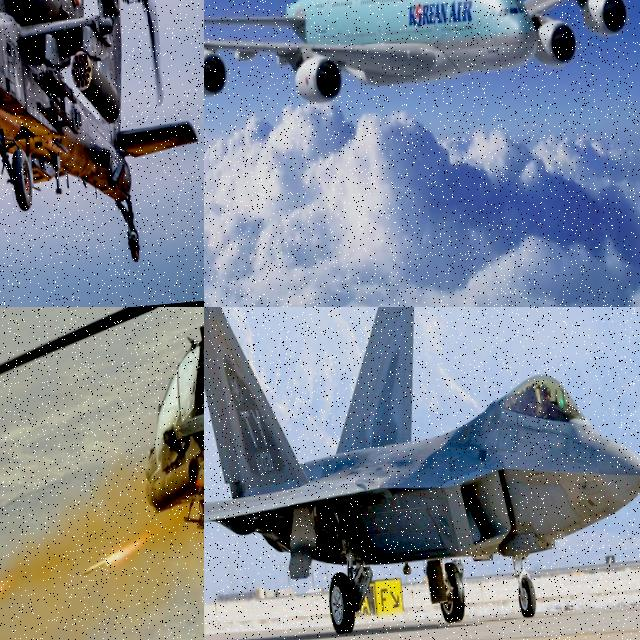A380: (204, 0, 640, 127)
Apache: (0, 0, 204, 297), (0, 307, 204, 593)
F22: (204, 307, 640, 640)
